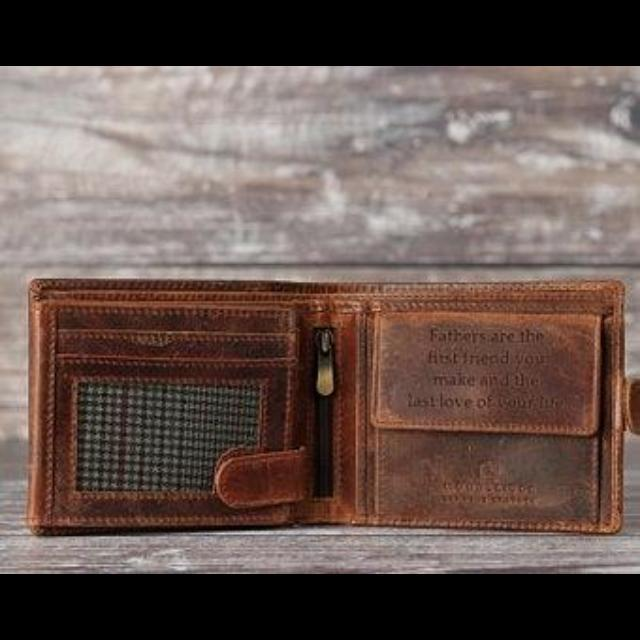Wallet: (28, 280, 640, 534)
